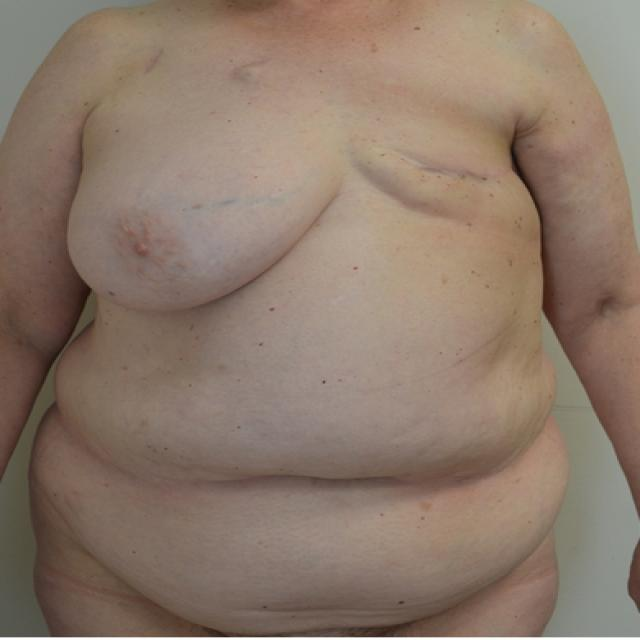Seno herido: (344, 105, 539, 237)
Seno ileso: (58, 104, 336, 323)
